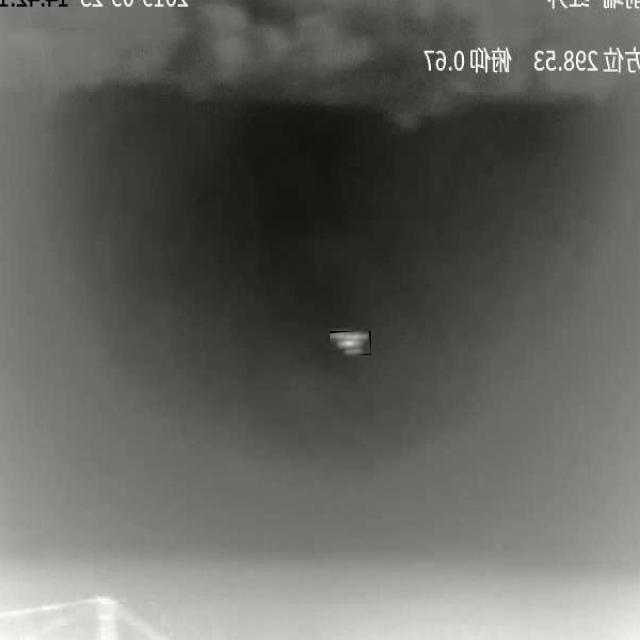drone: (330, 331, 370, 355)
